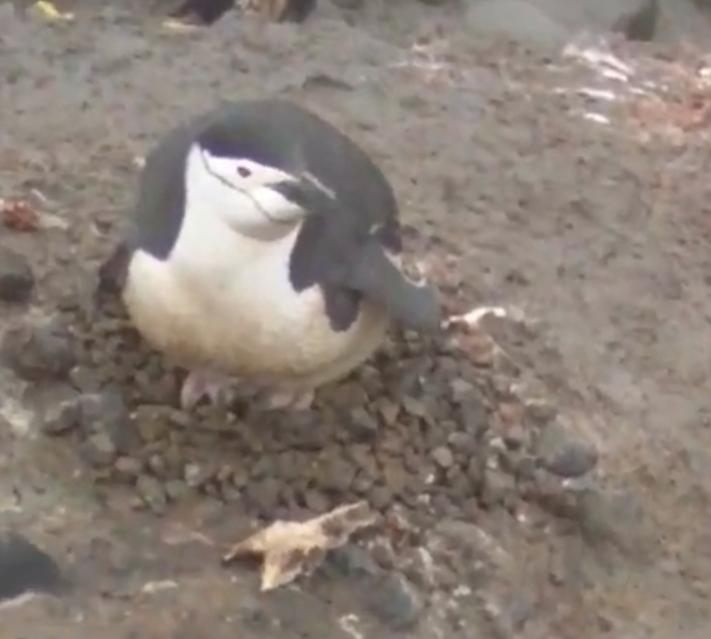Chinstrap Penguin: (80, 77, 451, 419), (0, 399, 170, 639)
